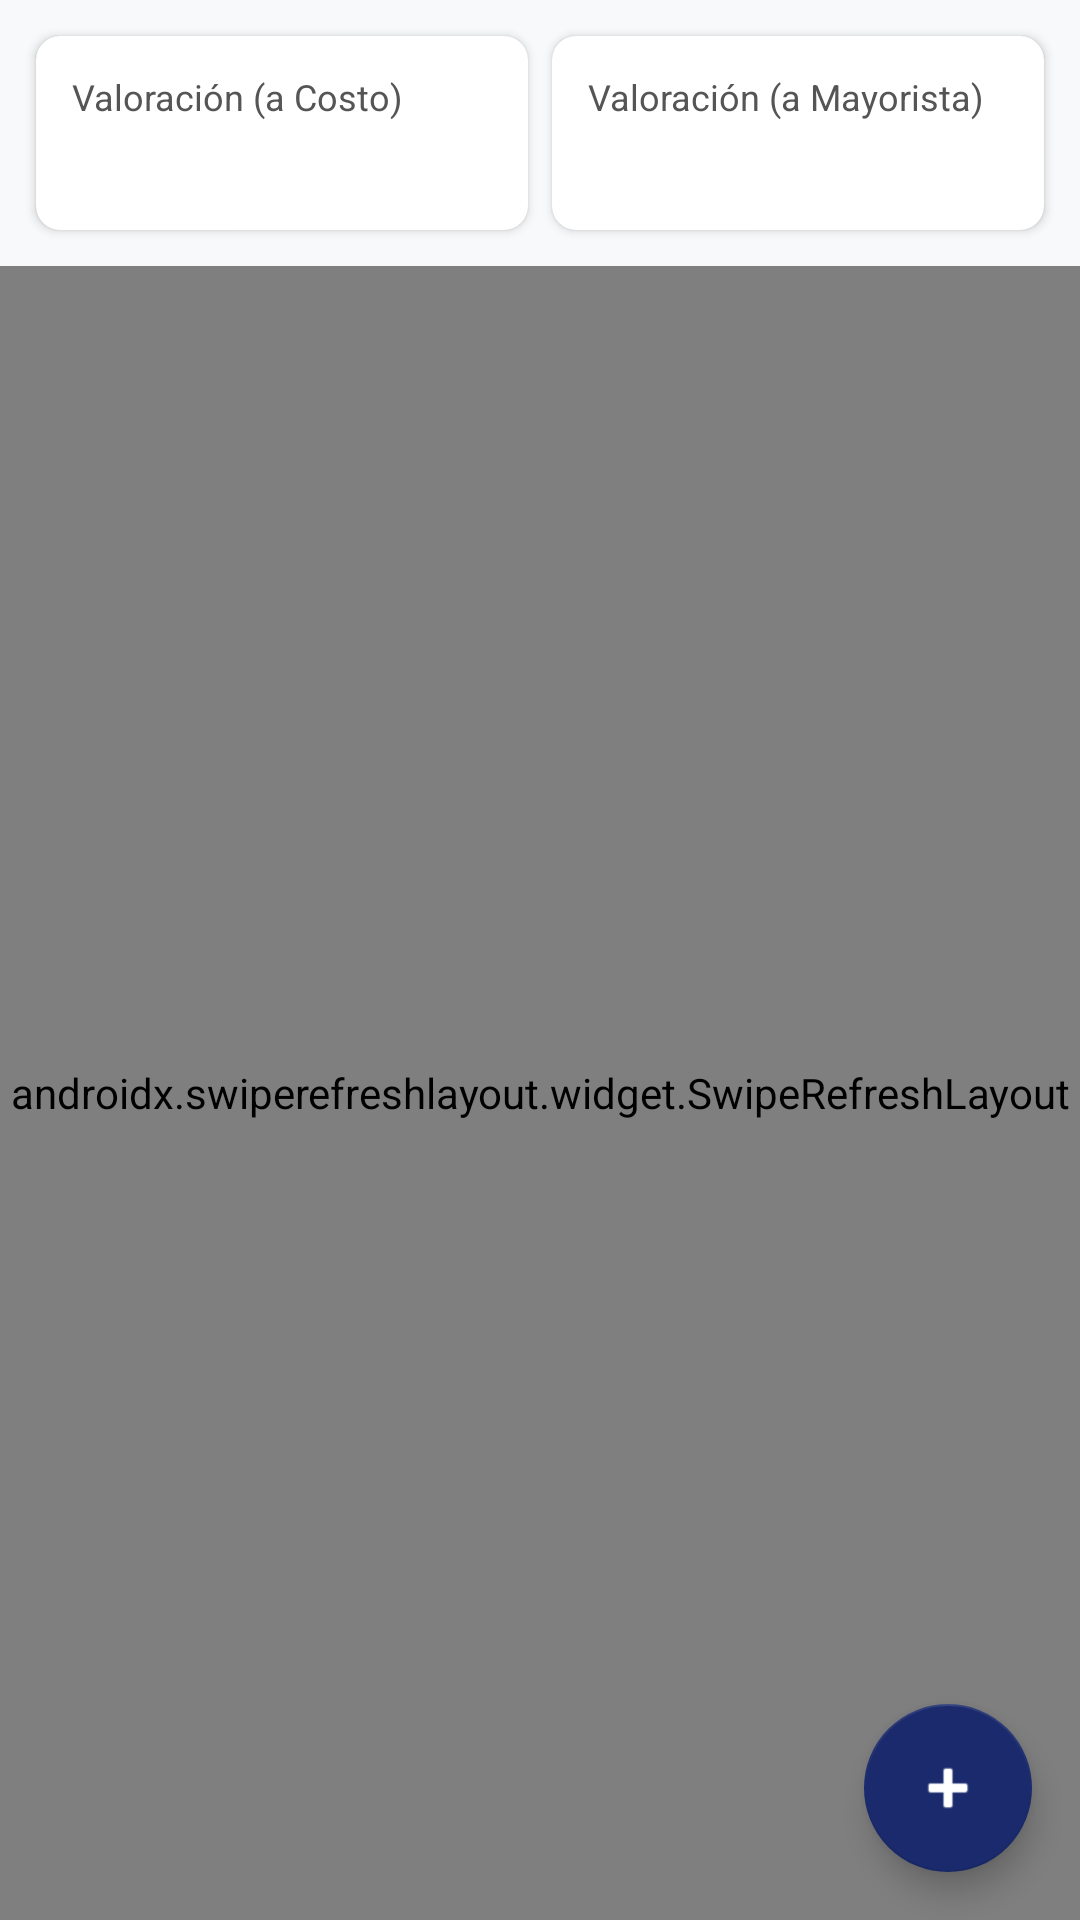

Icon click points for this 1080×1920 phone screenshot, format point (x, y):
Agregar producto: point (948, 1788)
